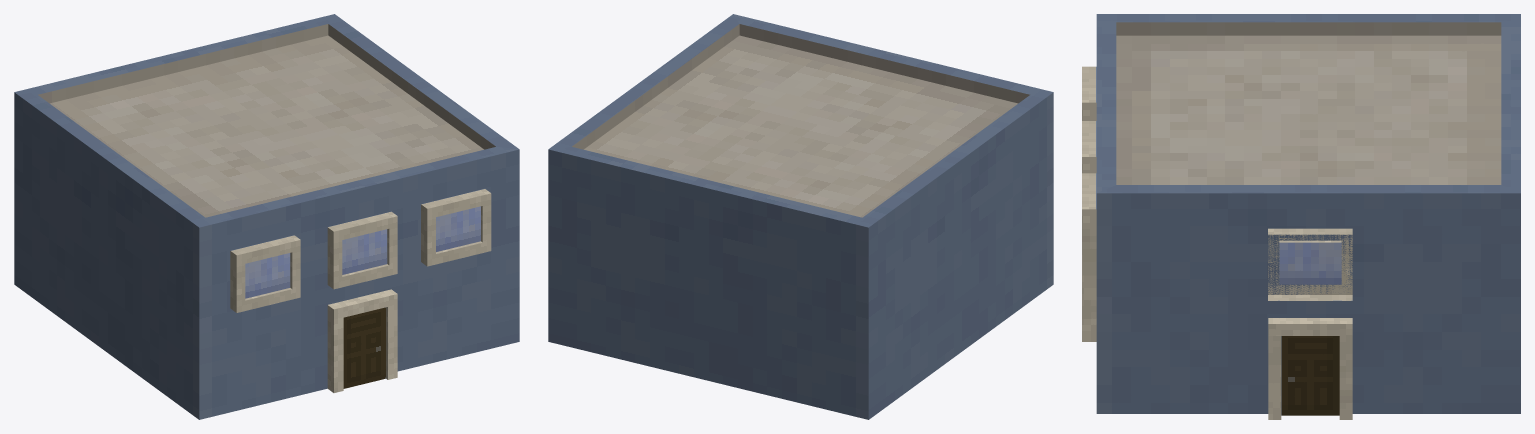
File: Building_1x1_1.fbx
The picture shows the model from 3 angles, left to right: view 1: azimuth 30°, elevation 25°; view 2: azimuth 150°, elevation 25°; view 3: azimuth 270°, elevation 25°; orthographic projection. The views are drawn at different scales.
Parts seen in each view (by area): view 1: Building_1x1_1; view 2: Building_1x1_1; view 3: Building_1x1_1.
Part boxes in pixels (x1=…): Building_1x1_1: x1=14, y1=14, x2=519, y2=419; Building_1x1_1: x1=548, y1=14, x2=1053, y2=419; Building_1x1_1: x1=1082, y1=14, x2=1520, y2=419.
Bounding box in the file's own units: 150 × 83 × 150.
